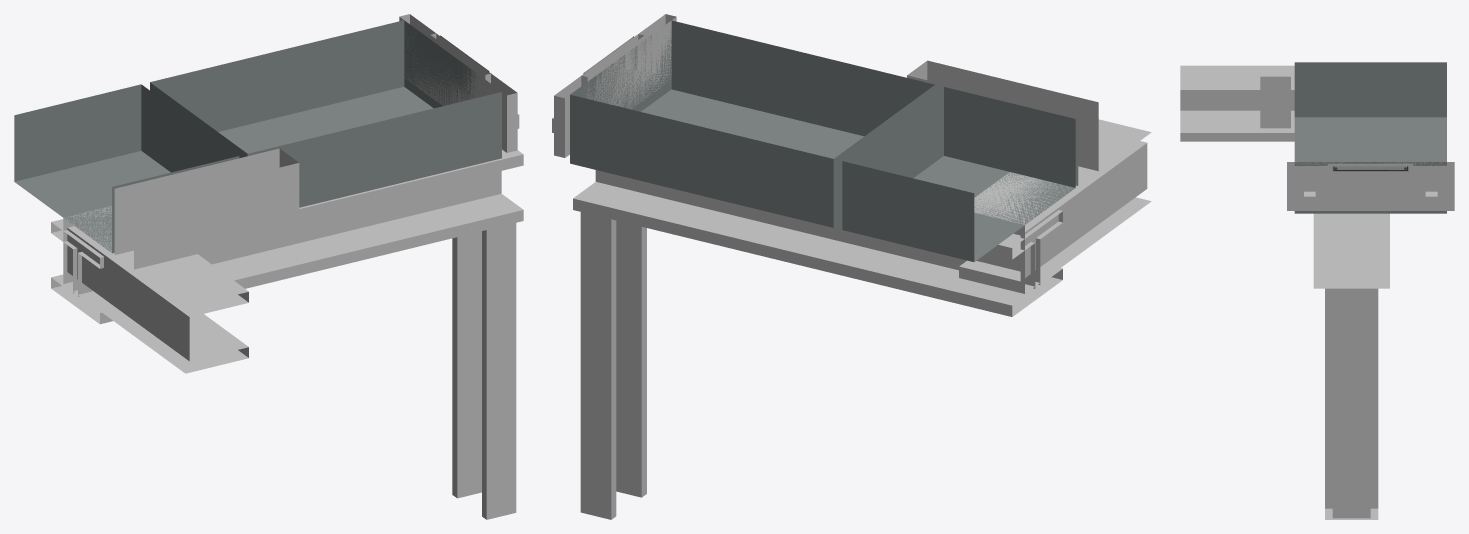
File: cell_3.obj
The picture shows the model from 3 angles, left to right: view 1: azimuth 30°, elevation 25°; view 2: azimuth 150°, elevation 25°; view 3: azimuth 270°, elevation 25°; orthographic projection. The views are drawn at different scales.
Bounding box in the file's own units: 1 × 1 × 0.72.
